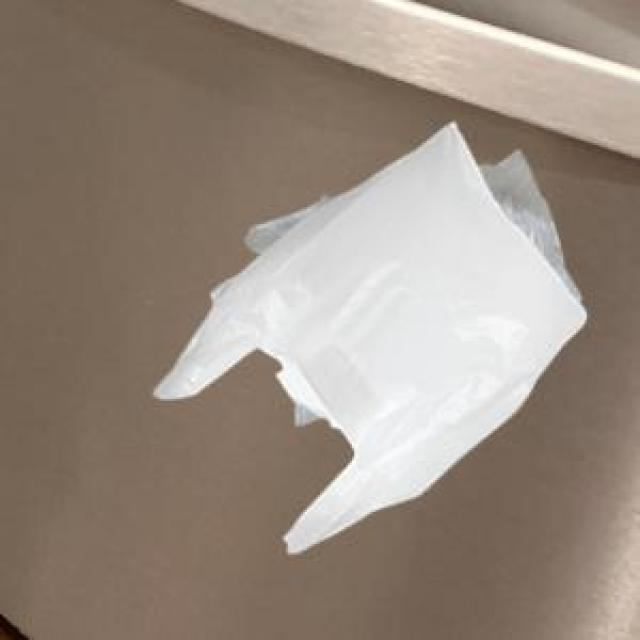waste: (155, 122, 586, 553)
